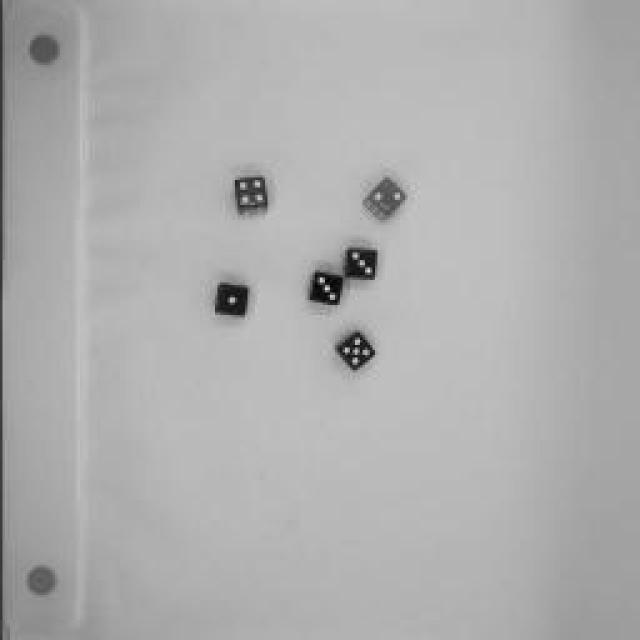dice_1: (206, 276, 254, 324)
dice_2: (356, 171, 412, 229)
dice_3: (338, 242, 382, 292), (304, 265, 346, 310)
dice_4: (225, 169, 275, 219)
dice_5: (326, 324, 384, 376)
